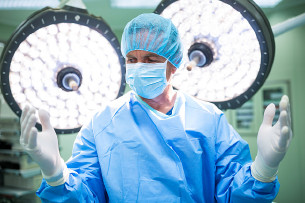face_mask: (124, 51, 167, 98)
